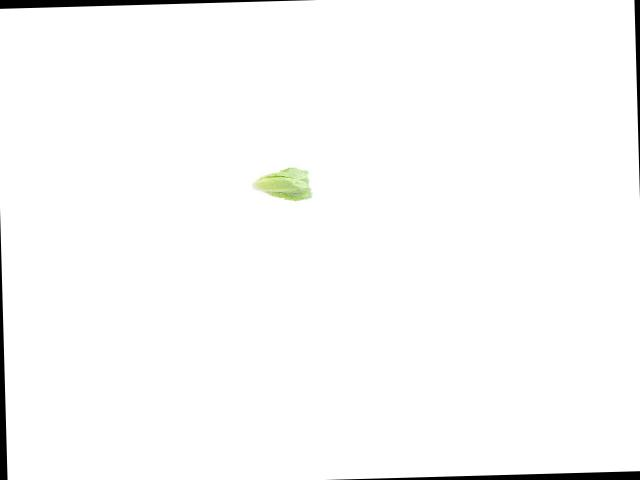lettuce: (249, 161, 315, 207)
